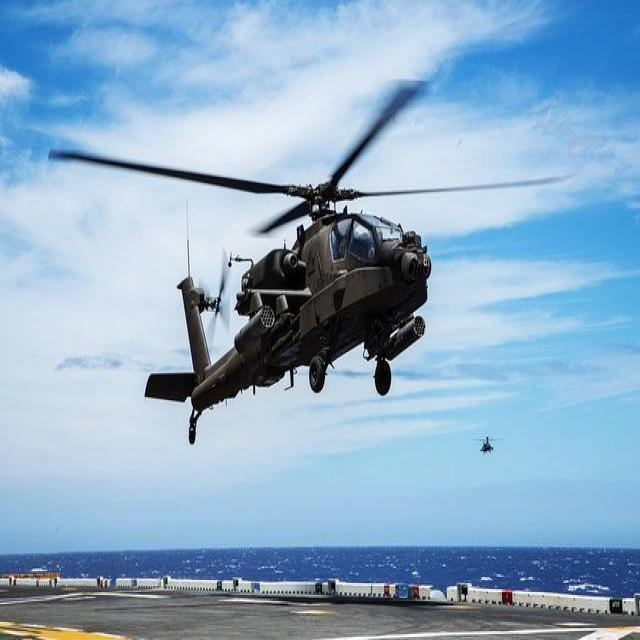MIL_HELO: (33, 79, 582, 452)
